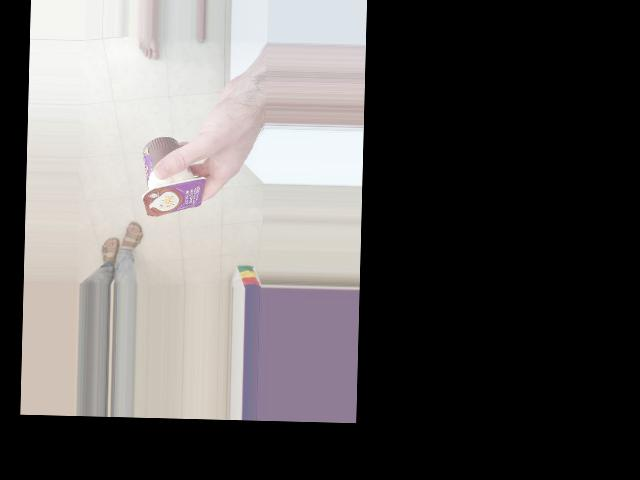milky: (100, 162, 193, 224)
